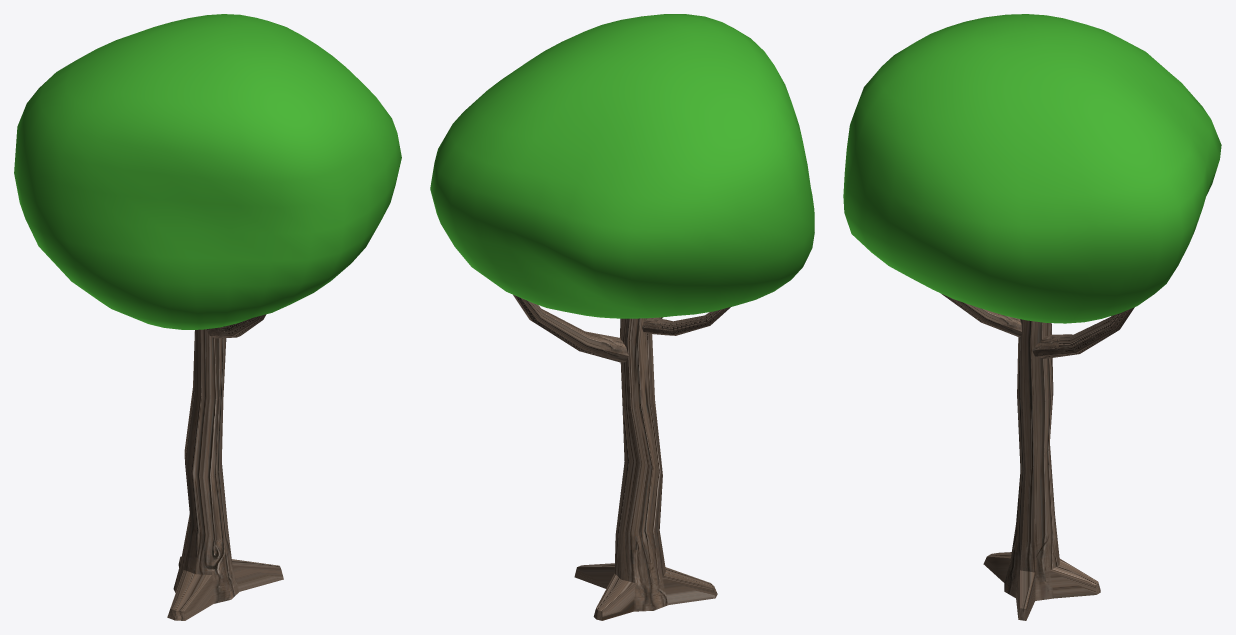
File: golf_tree_2.glb
3 renders of one model, left to right at view 1: azimuth 30°, elevation 25°; view 2: azimuth 150°, elevation 25°; view 3: azimuth 270°, elevation 25°, orthographic.
Parts seen in each view (by area): view 1: leaves_dark2, tree_body_dark2; view 2: leaves_dark2, tree_body_dark2; view 3: leaves_dark2, tree_body_dark2.
Boxes of the visible parts, bbox=[...] form: leaves_dark2: bbox=[14, 14, 401, 329]; tree_body_dark2: bbox=[167, 314, 283, 620]; leaves_dark2: bbox=[430, 14, 814, 318]; tree_body_dark2: bbox=[513, 295, 731, 620]; leaves_dark2: bbox=[843, 14, 1221, 323]; tree_body_dark2: bbox=[942, 294, 1134, 620].
Size of the model in its own units: 2.4 by 3.8 by 2.37.
2 materials, 1 textured.
